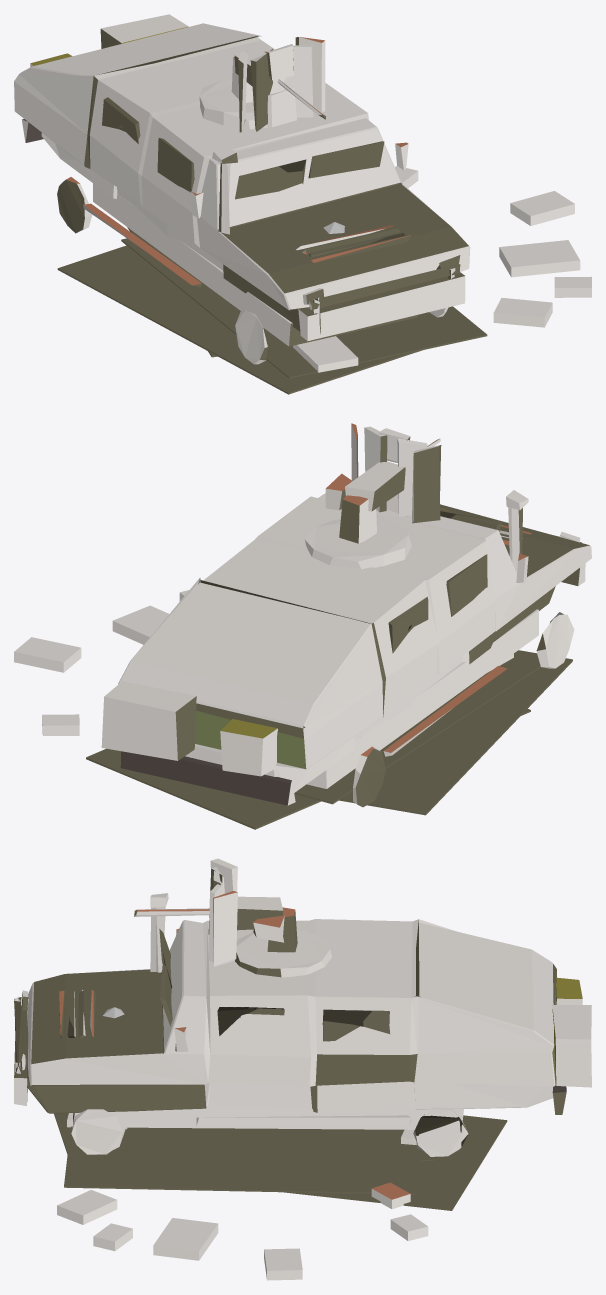
Rendered from SM_RestosVamtac_v0_LOD0.fbx.
3 views of the same model, one above another, from view 1: azimuth 30°, elevation 25°; view 2: azimuth 150°, elevation 25°; view 3: azimuth 270°, elevation 25° (orthographic). The views are drawn at different scales.
Parts seen in each view (by area): view 1: SM_bloques.restos_vamtac_v0_LOD0; view 2: SM_bloques.restos_vamtac_v0_LOD0; view 3: SM_bloques.restos_vamtac_v0_LOD0.
Part boxes in pixels (x1=…): SM_bloques.restos_vamtac_v0_LOD0: x1=14, y1=14, x2=591, y2=394; SM_bloques.restos_vamtac_v0_LOD0: x1=14, y1=423, x2=591, y2=829; SM_bloques.restos_vamtac_v0_LOD0: x1=14, y1=858, x2=591, y2=1280.
Bounding box in the file's own units: 5.64 × 3.19 × 6.56.
